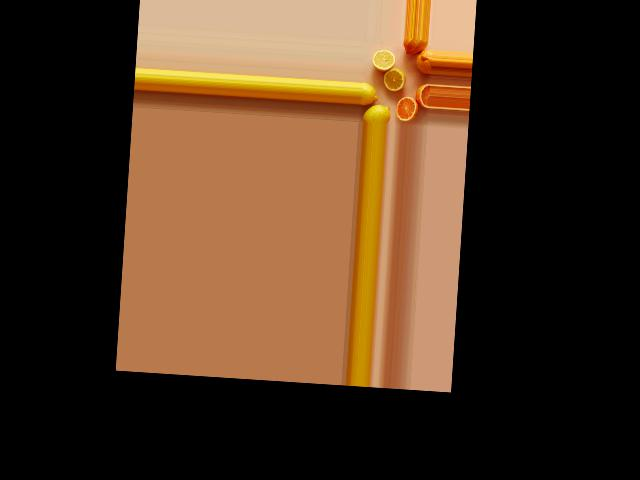lemon: (400, 38, 429, 59)
